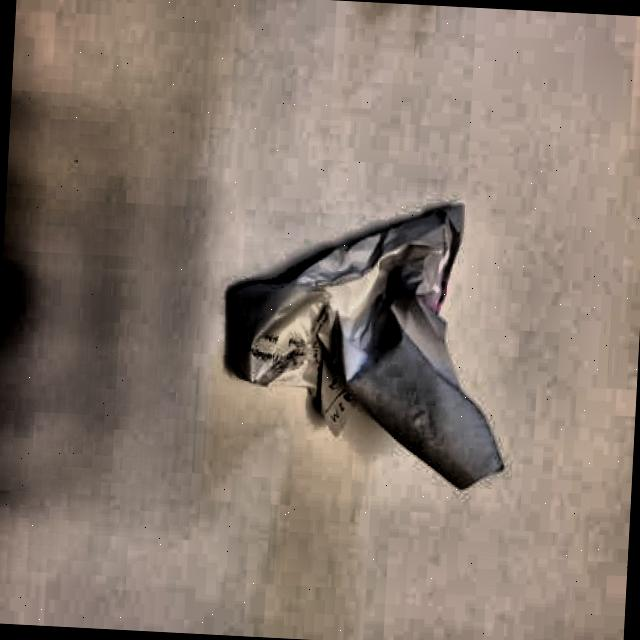paper: (217, 182, 524, 503)
